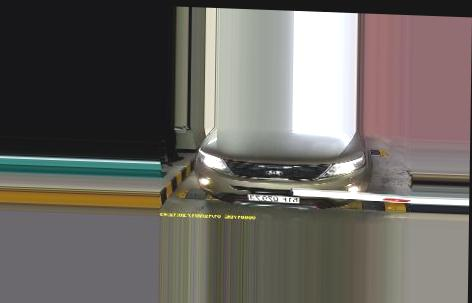License_Plate: (247, 191, 301, 207)
